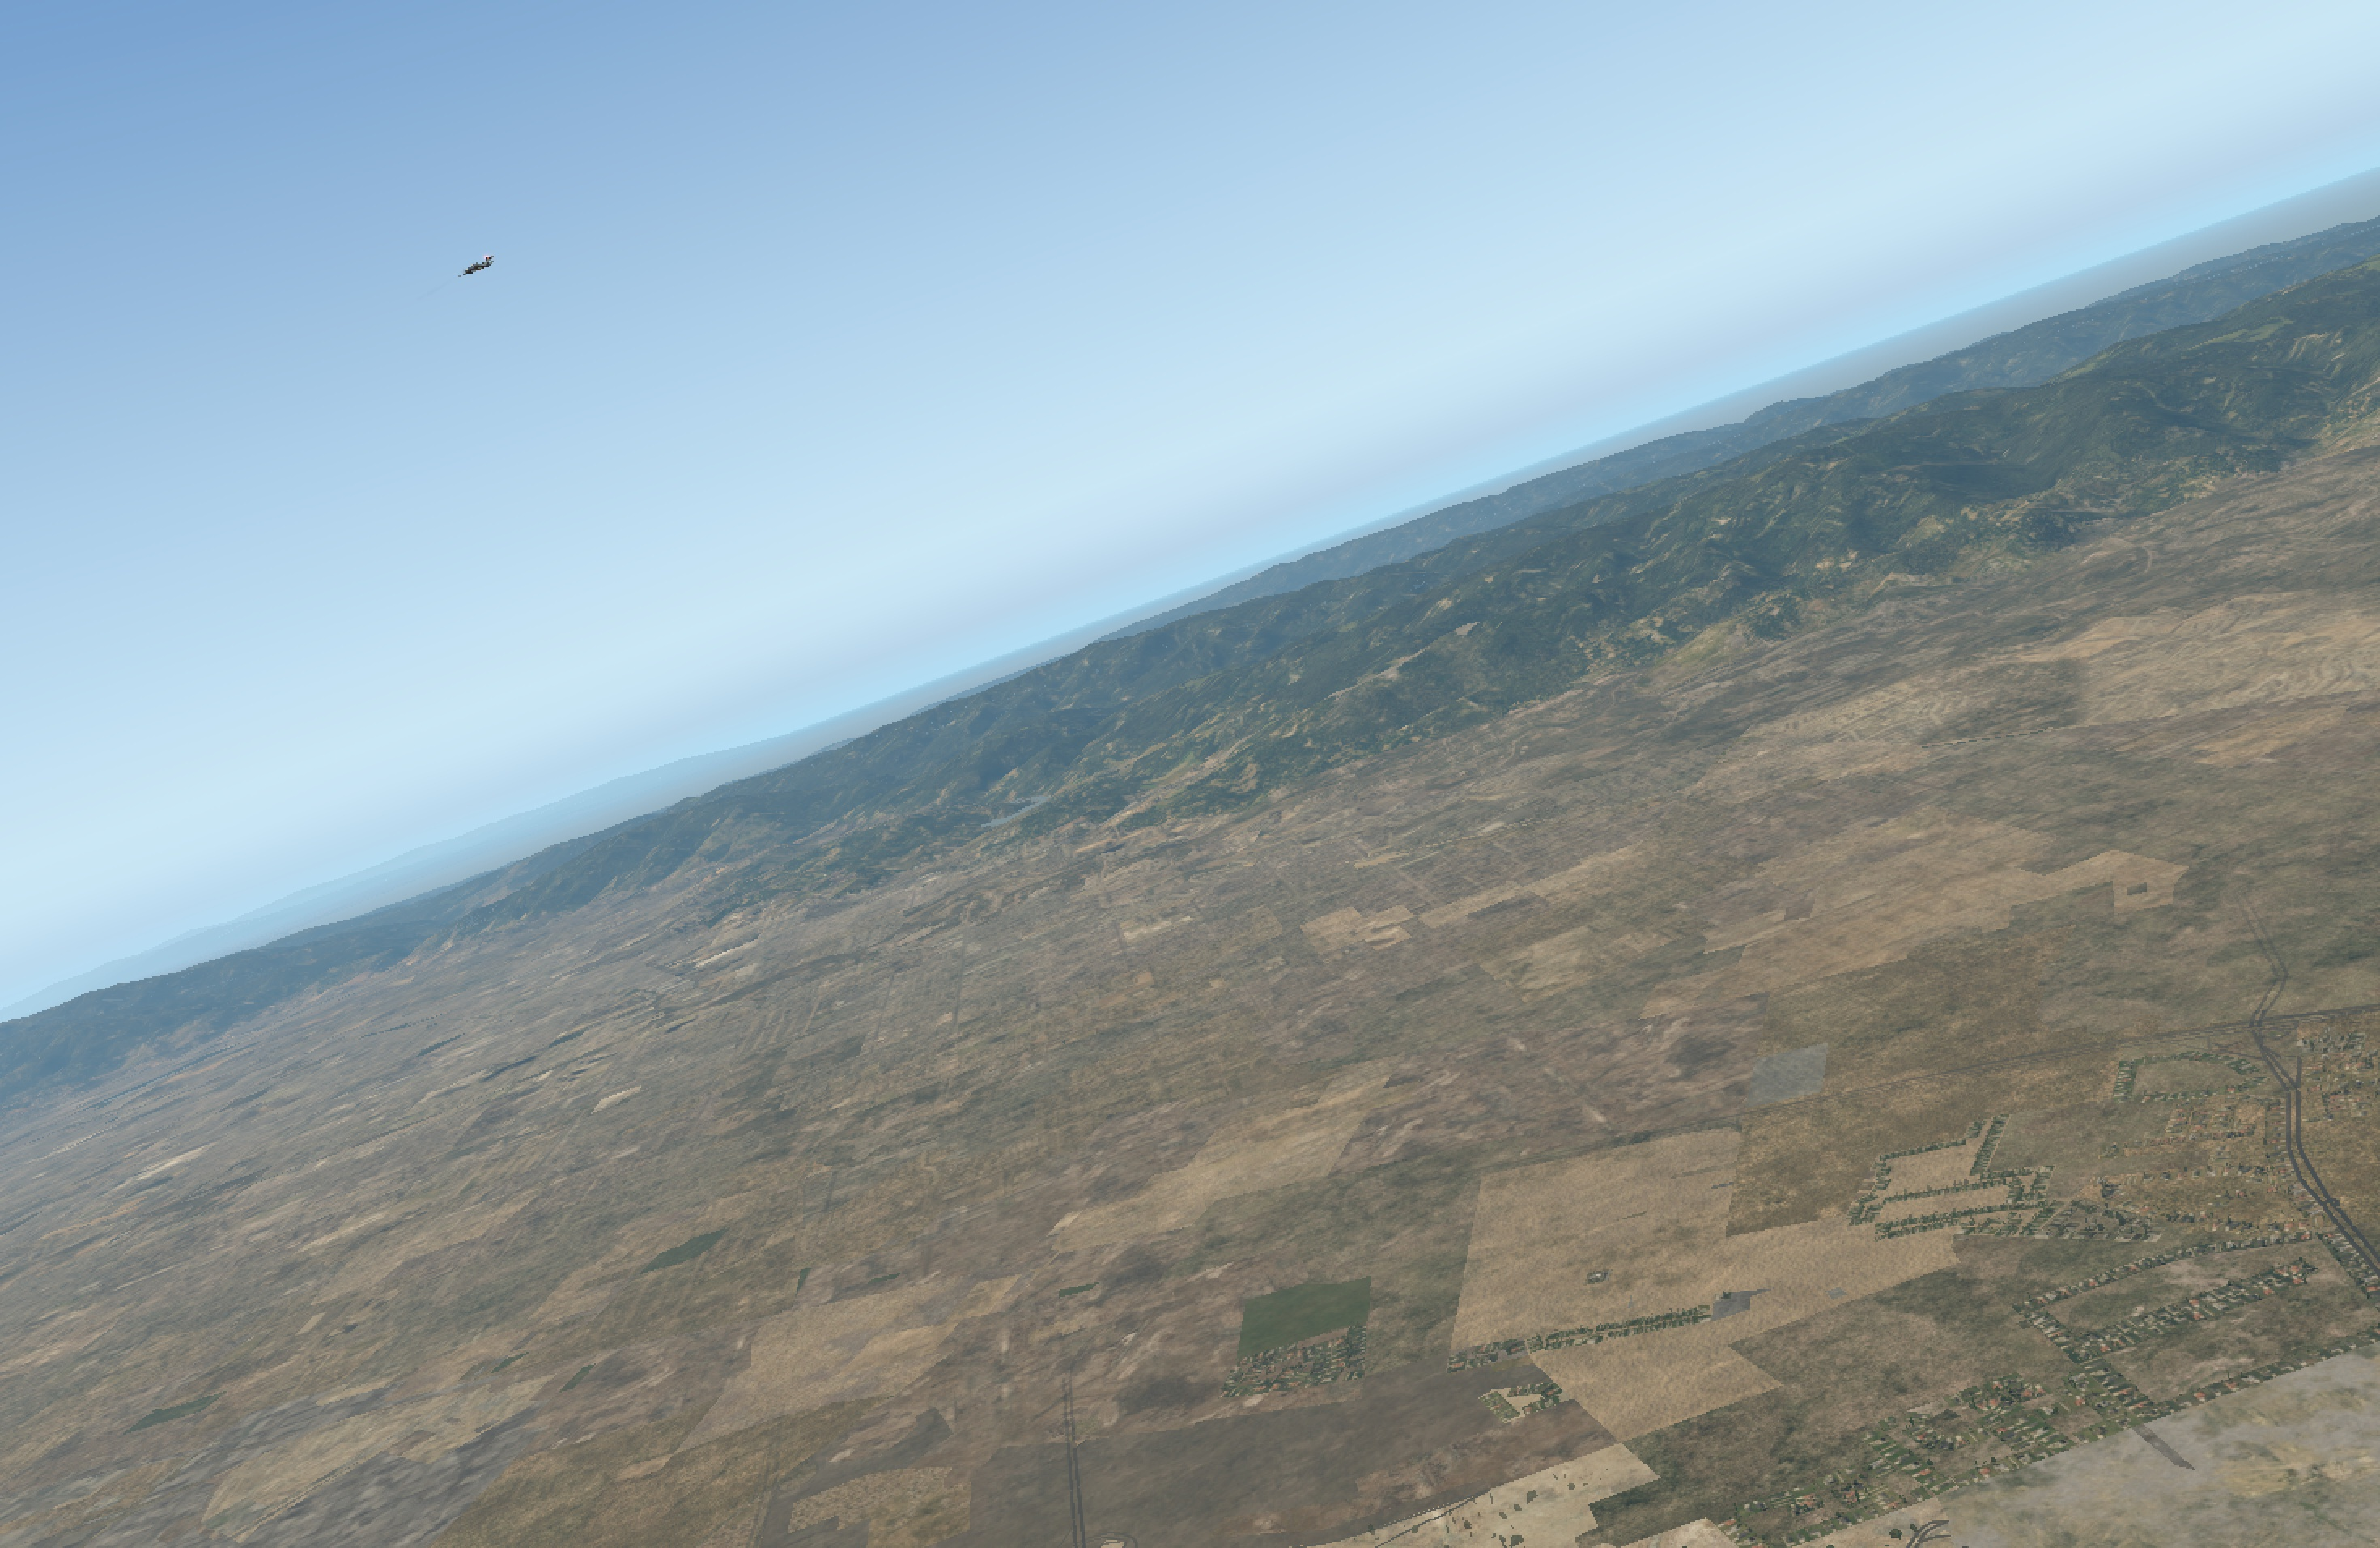aircraft: (451, 260, 501, 279)
